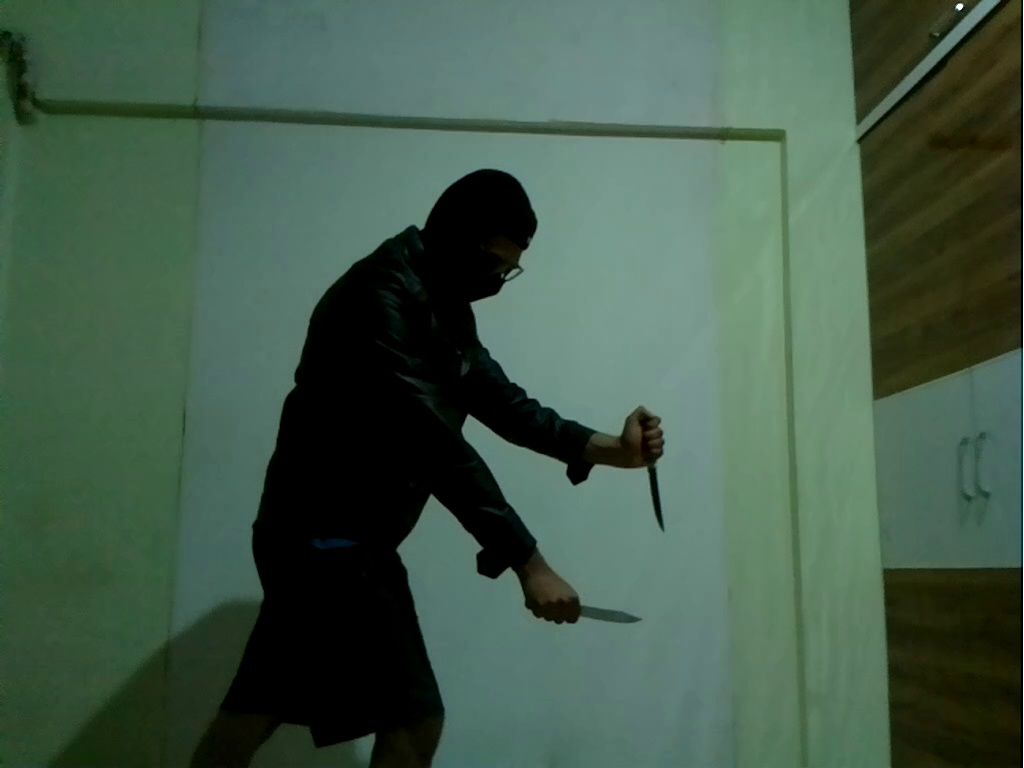knife: (573, 596, 655, 633), (641, 460, 671, 541)
